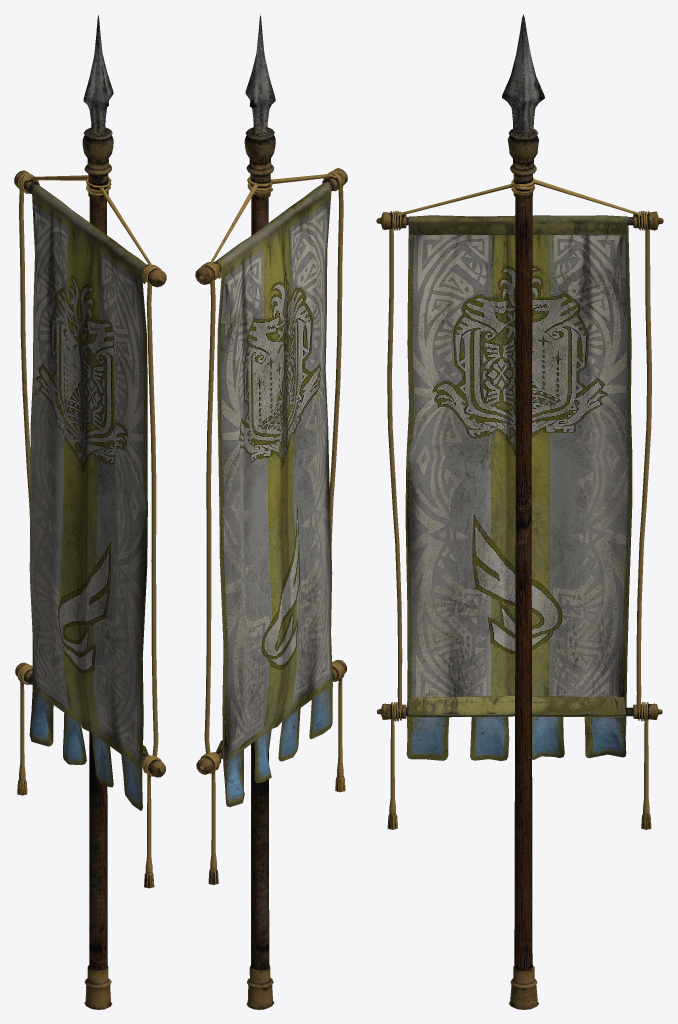
The model's file is lan019.obj.
3 renders of one model, left to right at view 1: azimuth 30°, elevation 25°; view 2: azimuth 150°, elevation 25°; view 3: azimuth 270°, elevation 25°, orthographic.
Visible parts, largest first — view 1: lan019_003_LOD_1, lan019_002_LOD_1, lan019_000_LOD_1, lan019_001_LOD_1; view 2: lan019_003_LOD_1, lan019_002_LOD_1, lan019_000_LOD_1, lan019_001_LOD_1; view 3: lan019_003_LOD_1, lan019_002_LOD_1, lan019_000_LOD_1, lan019_001_LOD_1.
Part boxes in pixels (x1,y1,x2,y2): lan019_003_LOD_1: [14, 170, 166, 970]; lan019_002_LOD_1: [17, 189, 158, 888]; lan019_000_LOD_1: [82, 15, 113, 199]; lan019_001_LOD_1: [84, 965, 112, 1009]; lan019_003_LOD_1: [195, 168, 347, 970]; lan019_002_LOD_1: [204, 186, 345, 884]; lan019_000_LOD_1: [244, 14, 275, 199]; lan019_001_LOD_1: [246, 965, 274, 1009]; lan019_003_LOD_1: [376, 177, 663, 971]; lan019_002_LOD_1: [387, 228, 651, 829]; lan019_000_LOD_1: [502, 14, 544, 199]; lan019_001_LOD_1: [508, 965, 538, 1009].
Size of the model in its own units: 16.6 by 370 by 97.29.
